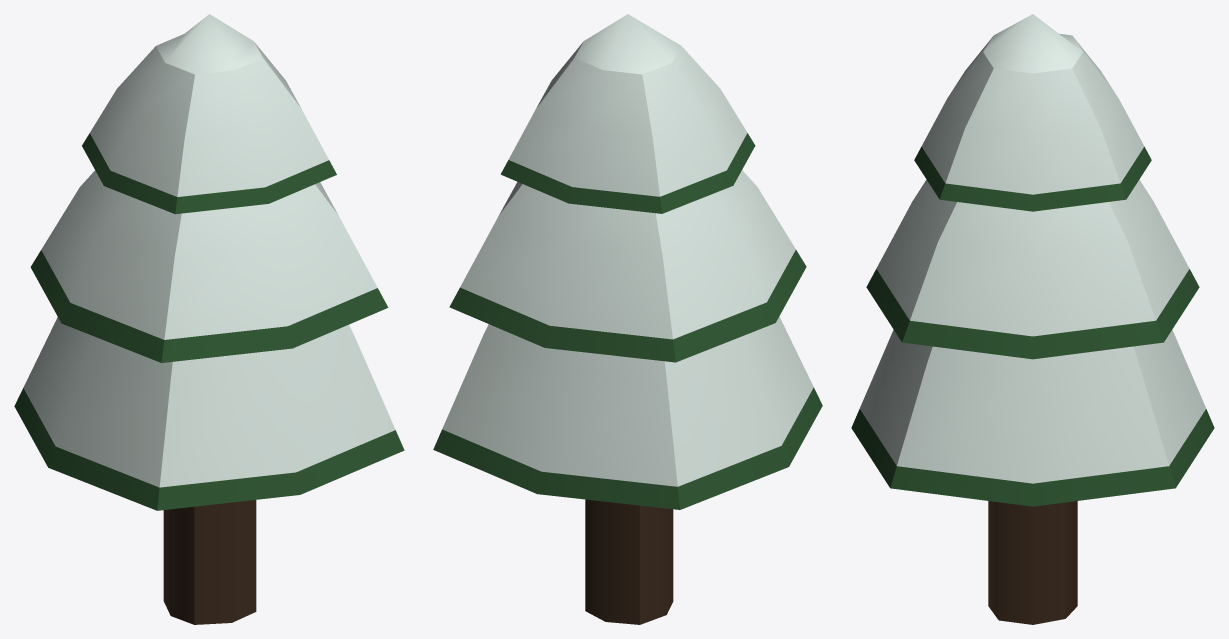
Rendered from snowy_tree_1.gltf.
The picture shows the model from 3 angles, left to right: view 1: azimuth 30°, elevation 25°; view 2: azimuth 150°, elevation 25°; view 3: azimuth 270°, elevation 25°; orthographic projection.
Parts seen in each view (by area): view 1: pCube2, pCube3, pCube4, pCube1; view 2: pCube2, pCube3, pCube4, pCube1; view 3: pCube2, pCube3, pCube4, pCube1.
Part boxes in pixels (x1,y1,x2,y2): pCube2: [14, 317, 404, 510]; pCube3: [30, 170, 388, 362]; pCube4: [82, 14, 336, 214]; pCube1: [163, 500, 256, 624]; pCube2: [433, 316, 822, 509]; pCube3: [449, 170, 806, 362]; pCube4: [500, 14, 755, 213]; pCube1: [585, 499, 673, 624]; pCube2: [851, 329, 1214, 506]; pCube3: [866, 180, 1199, 359]; pCube4: [914, 14, 1151, 211]; pCube1: [988, 501, 1077, 624].
Bounding box in the file's own units: 5.63 × 9.88 × 5.5.
